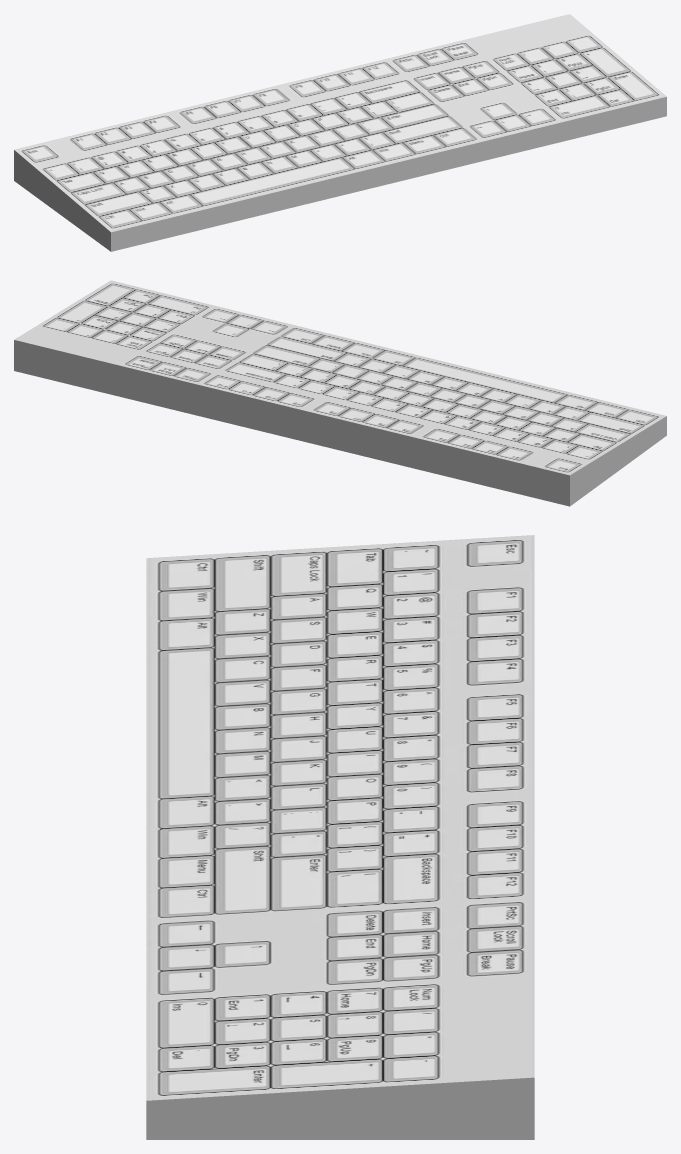
Rendered from Keyboard.fbx.
3 views of the same model, one above another, from view 1: azimuth 30°, elevation 25°; view 2: azimuth 150°, elevation 25°; view 3: azimuth 270°, elevation 25° (orthographic). The views are drawn at different scales.
Parts seen in each view (by area): view 1: Box002; view 2: Box002; view 3: Box002.
Boxes of the visible parts, x1,y1,x2,y2 form: Box002: [14, 14, 666, 251]; Box002: [14, 280, 666, 506]; Box002: [146, 535, 534, 1139].
Bounding box in the file's own units: 234 × 12.53 × 70.73.
2 materials, 1 textured.
